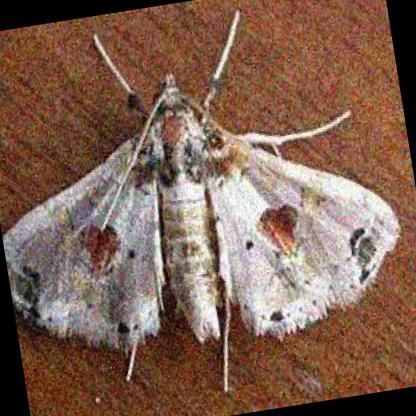leucinodes: (4, 72, 400, 353)
